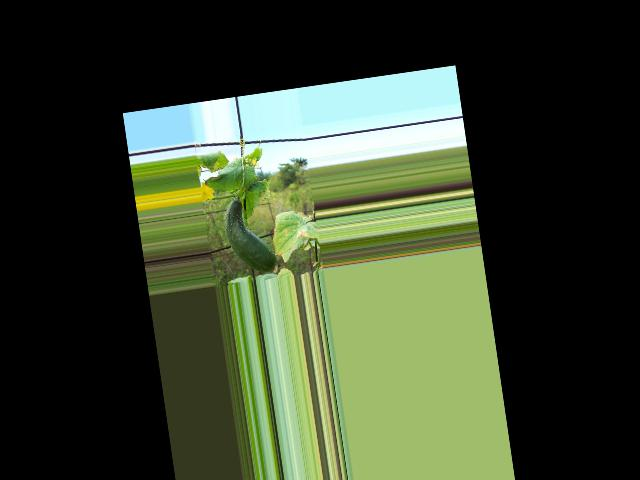cucumber: (221, 194, 278, 276)
